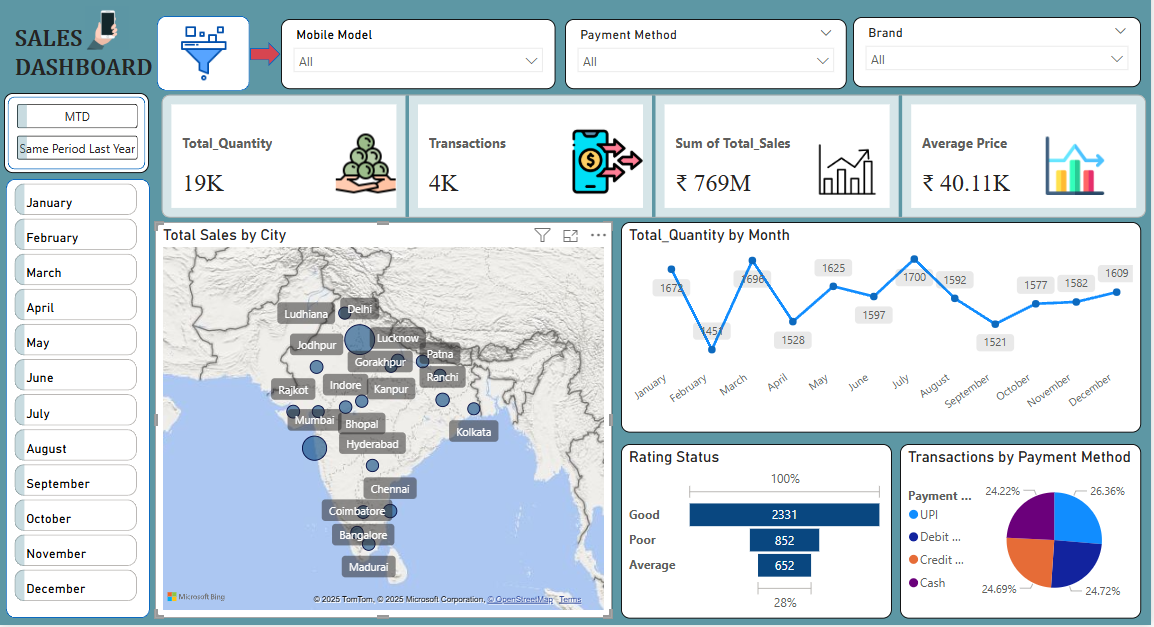

What the dashboard file says about the page in this screenshot:
{"tool":"powerbi","page":{"name":"DashBoard","canvas":[1280,720],"ordinal":0},"visuals":[{"type":"shape","box":[7.8,224.4,160,487.8],"z":0},{"type":"advancedSlicerVisual","fields":{"Values":["Custom_Calander.Date.Variation.Date Hierarchy.Month"]},"box":[12.2,224.4,146.7,478.9],"z":1000},{"type":"cardVisual","fields":{"Data":["Sales.Total_Quantity","Sales.Transactions","Sum(Sales.Revenue)","Sales.Average Price"]},"box":[176,126,1104,147],"z":2000},{"type":"image","box":[856.2,168.8,171.2,90],"z":3000},{"type":"image","box":[350,166.7,115.6,81.1],"z":4000},{"type":"image","box":[1110,172.5,170,75],"z":5000},{"type":"image","box":[611.8,160.9,127.3,88.2],"z":6000},{"type":"slicer","fields":{"Values":["Sales.Payment Method"]},"box":[629,47,313,78],"z":7000},{"type":"slicer","fields":{"Values":["Sales.Brand"]},"box":[949,44,320,78],"z":8000},{"type":"shape","box":[176,43,103,83],"z":9000},{"type":"slicer","fields":{"Values":["Sales.Mobile Model"]},"box":[313,47,305,78],"z":10000},{"type":"image","box":[165,49,123,72],"z":11000},{"type":"shape","box":[279,72,34,27],"z":12000},{"type":"image","box":[76,27,89,59],"z":13000},{"type":"textbox","box":[12,49,179,74],"z":14000},{"type":"map","title":"Total Sales by City","fields":{"Category":["Sales.City"],"Size":["Sum(Sales.Total_Sales)"]},"box":[173.3,272.2,507.8,440],"z":15000},{"type":"lineChart","fields":{"Category":["Custom_Calander.Date.Variation.Date Hierarchy.Month"],"Y":["Sales.Total_Quantity"]},"box":[691.1,272.2,577.8,234.4],"z":16000},{"type":"funnel","title":"Rating Status","fields":{"Y":["CountNonNull(Sales.Customer Ratings)"],"Category":["Sales.Rating Status"]},"box":[691.1,518.9,301.1,194.4],"z":17000},{"type":"pieChart","fields":{"Category":["Sales.Payment Method"],"Y":["Sales.Transactions"]},"box":[1001.1,518.9,267.8,194.4],"z":18000},{"type":"shape","box":[5.6,128.9,161.1,88.9],"z":19000},{"type":"pageNavigator","box":[20,141.1,134.4,62.2],"z":20000}]}

Visuals, with their boxes on the page's 1280x720 design canvas (x1, y1, x2, y2). These are canvas units, not pixel positions in the 1154x627 screenshot, which may show the page scaled, cropped or inside an application window:
shape: pyautogui.locateOnScreen(8, 224, 168, 712)
advancedSlicerVisual - Custom_Calander.Date.Variation.Date Hierarchy.Month: pyautogui.locateOnScreen(12, 224, 159, 703)
cardVisual - Sales.Total_Quantity x Sales.Transactions: pyautogui.locateOnScreen(176, 126, 1280, 273)
image: pyautogui.locateOnScreen(856, 169, 1027, 259)
image: pyautogui.locateOnScreen(350, 167, 466, 248)
image: pyautogui.locateOnScreen(1110, 172, 1280, 248)
image: pyautogui.locateOnScreen(612, 161, 739, 249)
slicer - Sales.Payment Method: pyautogui.locateOnScreen(629, 47, 942, 125)
slicer - Sales.Brand: pyautogui.locateOnScreen(949, 44, 1269, 122)
shape: pyautogui.locateOnScreen(176, 43, 279, 126)
slicer - Sales.Mobile Model: pyautogui.locateOnScreen(313, 47, 618, 125)
image: pyautogui.locateOnScreen(165, 49, 288, 121)
shape: pyautogui.locateOnScreen(279, 72, 313, 99)
image: pyautogui.locateOnScreen(76, 27, 165, 86)
textbox: pyautogui.locateOnScreen(12, 49, 191, 123)
"Total Sales by City" map: pyautogui.locateOnScreen(173, 272, 681, 712)
lineChart - Custom_Calander.Date.Variation.Date Hierarchy.Month x Sales.Total_Quantity: pyautogui.locateOnScreen(691, 272, 1269, 507)
"Rating Status" funnel: pyautogui.locateOnScreen(691, 519, 992, 713)
pieChart - Sales.Payment Method x Sales.Transactions: pyautogui.locateOnScreen(1001, 519, 1269, 713)
shape: pyautogui.locateOnScreen(6, 129, 167, 218)
pageNavigator: pyautogui.locateOnScreen(20, 141, 154, 203)
